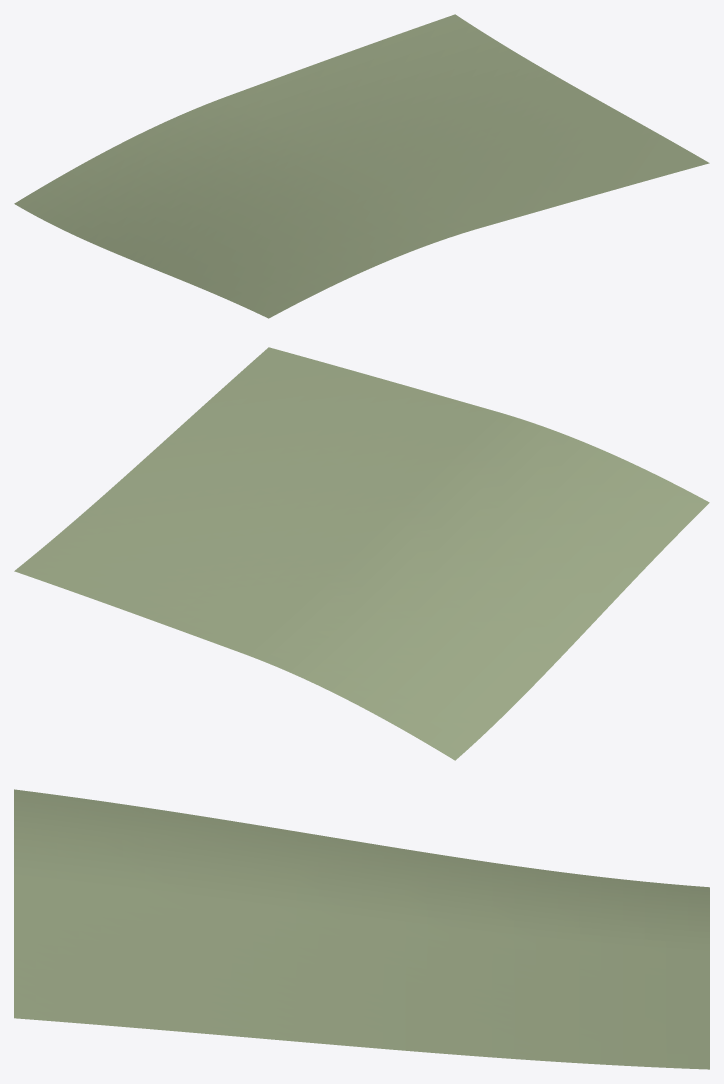
File: expanse-26-16.glb
The picture shows the model from 3 angles, top to bottom: view 1: azimuth 30°, elevation 25°; view 2: azimuth 150°, elevation 25°; view 3: azimuth 270°, elevation 25°; orthographic projection. The views are drawn at different scales.
Parts seen in each view (by area): view 1: expanse-26-16; view 2: expanse-26-16; view 3: expanse-26-16.
Part boxes in pixels (x1,y1,x2,y2): expanse-26-16: (14,14,709,318); expanse-26-16: (14,347,709,760); expanse-26-16: (14,789,709,1069).
Bounding box in the file's own units: 256 × 66.19 × 256.
